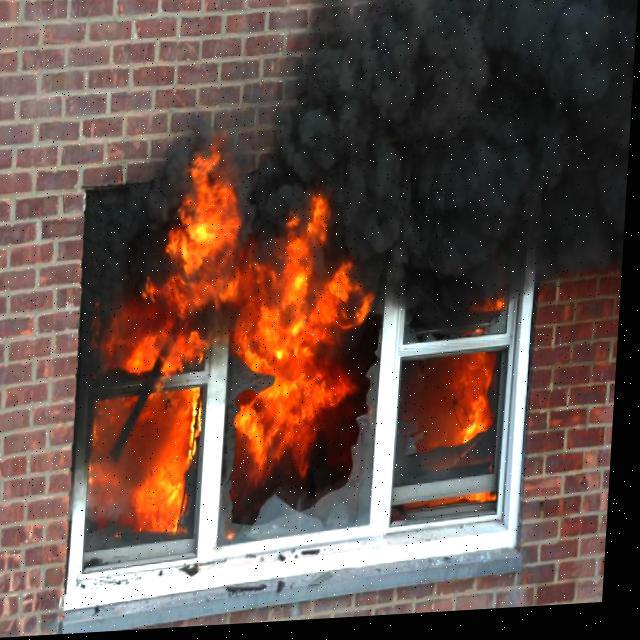Fire: (83, 148, 523, 544)
